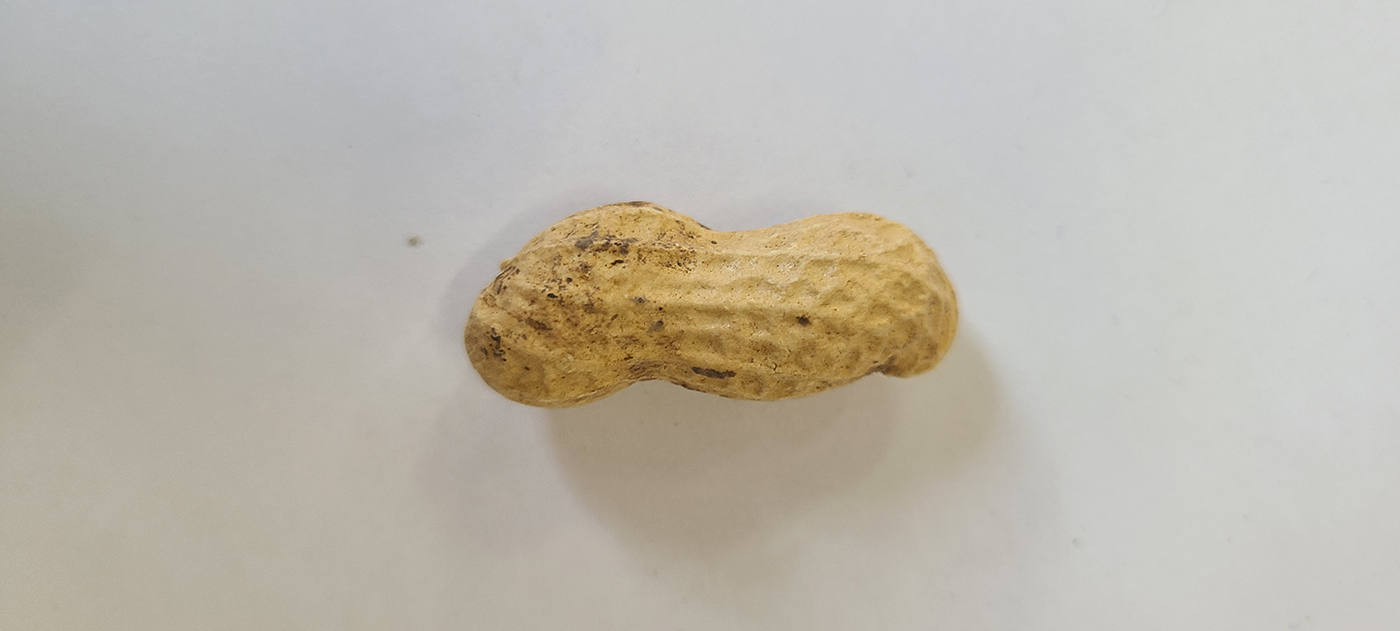h: (464, 196, 960, 409)
